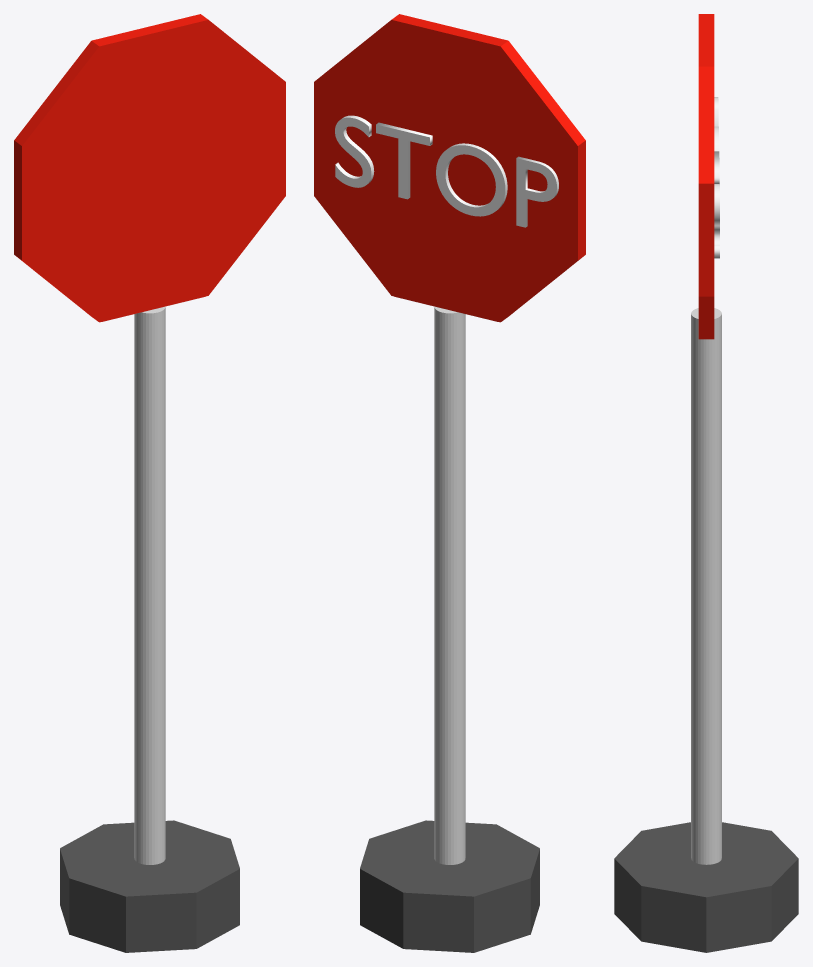
Rendered from stop.glb.
3 views of the same model, side by side, from view 1: azimuth 30°, elevation 25°; view 2: azimuth 150°, elevation 25°; view 3: azimuth 270°, elevation 25° (orthographic).
Visible parts, largest first — view 1: WhiteBorder, Base, Post; view 2: WhiteBorder, Base, Post, StopText; view 3: Base, Post, WhiteBorder, StopText.
Boxes of the visible parts, x1,y1,x2,y2 form: WhiteBorder: (14,14,285,322); Base: (60,820,239,952); Post: (134,306,165,864); WhiteBorder: (314,14,585,322); Base: (360,820,539,952); Post: (434,306,465,864); StopText: (335,115,558,227); Base: (614,822,798,952); Post: (691,308,721,864); WhiteBorder: (698,14,714,339); StopText: (714,97,719,258).
Size of the model in its own units: 0.9793 by 3.14 by 0.6.
